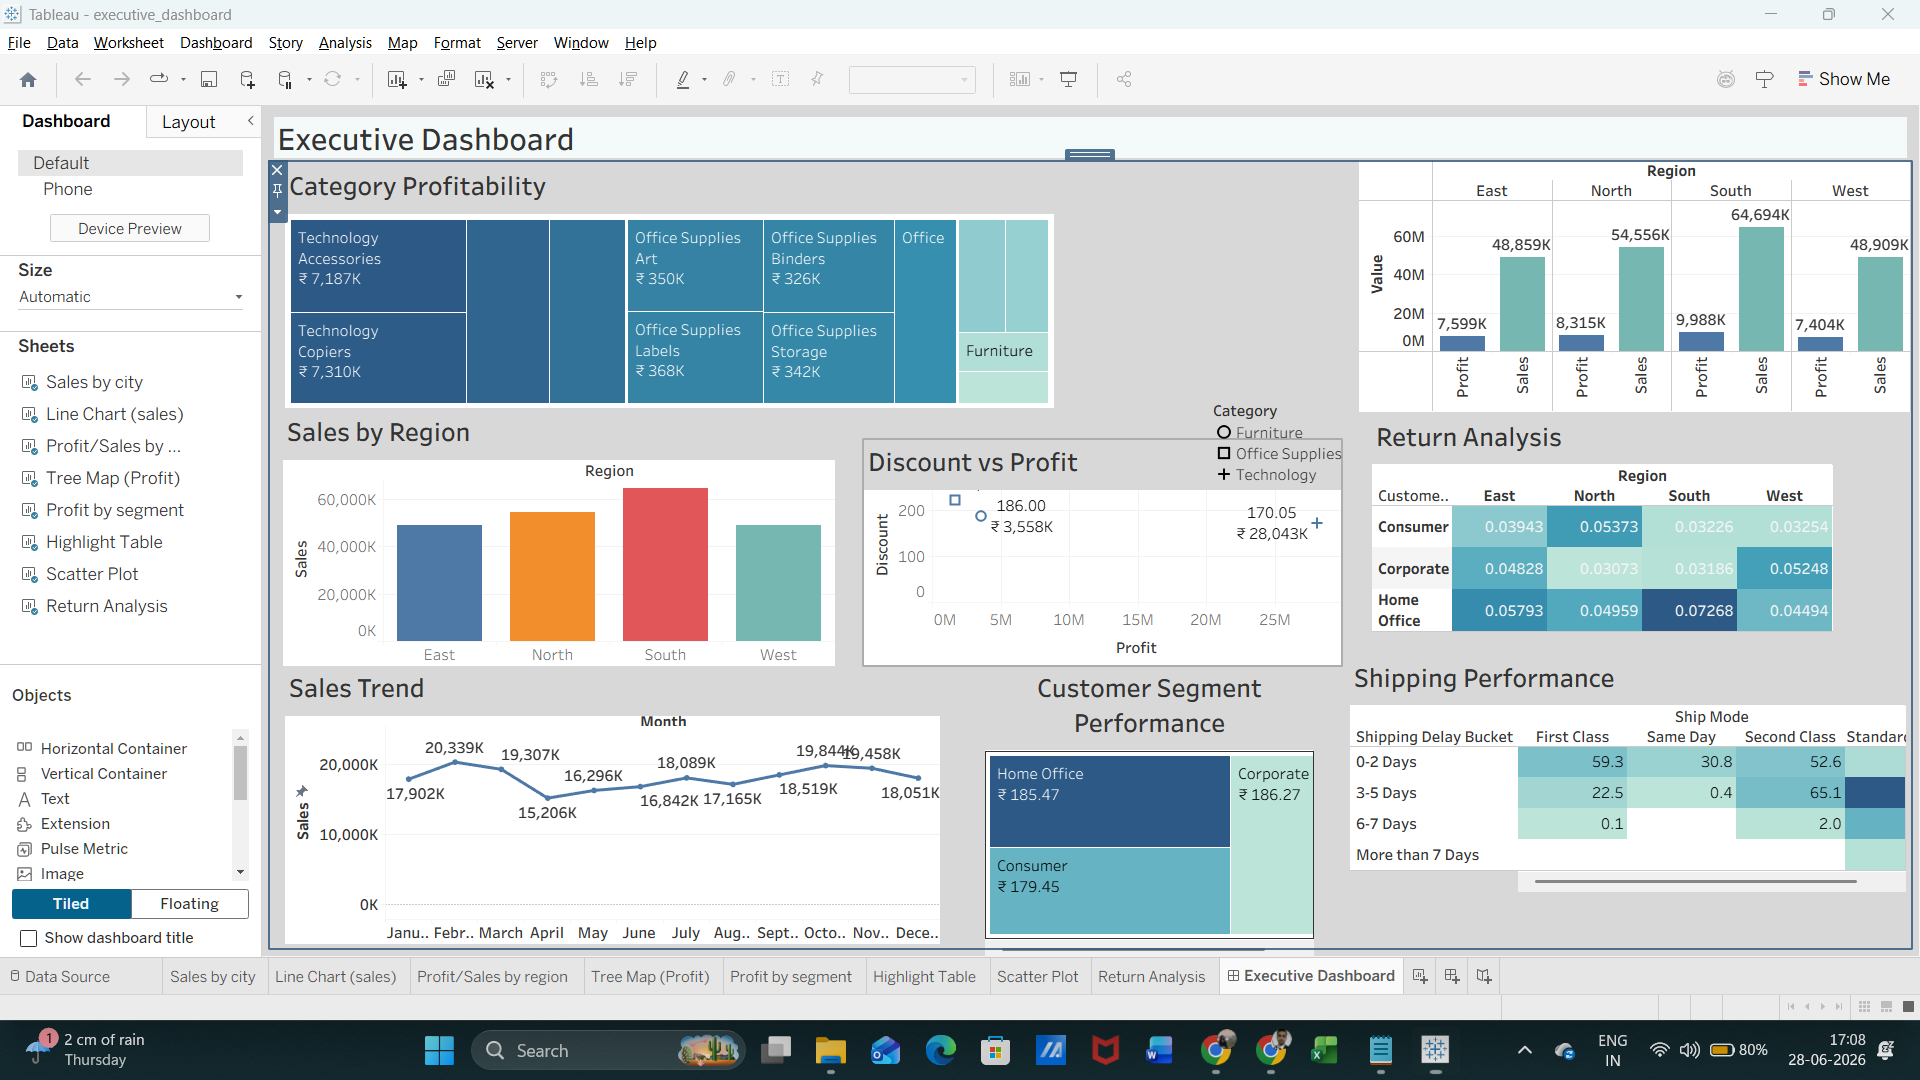

The page's visual inventory and layout, read from the dashboard file:
{"tool":"tableau","page":{"name":"Executive Dashboard","canvas":[1000,1000],"units":"permille","ordinal":0},"visuals":[{"type":"title","box":[4.8,9.4,990.3,57.6]},{"type":"worksheet","title":"Profit/Sales by region","mark":"Automatic","cols":["region"],"box":[662,64.6,333.1,296.1]},{"type":"worksheet","title":"Tree Map (Profit)","mark":"Automatic","box":[13.9,69.3,495.5,286.7]},{"type":"legend","title":"Scatter Plot","param":"[federated.0z5z3j31rj5l7211yzydh0zxtakk].[none:category:nk]","box":[573.9,346.7,85.1,99.9]},{"type":"worksheet","title":"Sales by city","mark":"Automatic","rows":["sales"],"cols":["region"],"box":[12.7,358.4,333.1,300.8]},{"type":"worksheet","title":"Return Analysis","mark":"Square","rows":["customer_segment"],"cols":["region"],"box":[669.9,364.3,311.4,266.8]},{"type":"worksheet","title":"Scatter Plot","mark":"Automatic","rows":["discount"],"cols":["profit"],"box":[363.3,393.7,287.9,264.4]},{"type":"worksheet","title":"Highlight Table","mark":"Square","rows":["Calculation_2171277562015750"],"cols":["ship_mode"],"box":[656.8,647.5,335.8,332.6]},{"type":"worksheet","title":"Line Chart (sales)","mark":"Line","rows":["sales"],"cols":["Month"],"box":[13.8,659.2,395.7,326.7]},{"type":"worksheet","title":"Profit by segment","mark":"Automatic","box":[436.3,659.2,198.6,345.5]}]}

Visuals, with their boxes on the dashboard's canvas, which has no fixed pixel size, in thousandths of its width and height (x1, y1, x2, y2). These are canvas units, not pixel positions in the 1920x1080 screenshot, which may show the page scaled, cropped or inside an application window:
title: [left=5, top=9, right=995, bottom=67]
"Profit/Sales by region" worksheet: [left=662, top=65, right=995, bottom=361]
"Tree Map (Profit)" worksheet: [left=14, top=69, right=509, bottom=356]
"Scatter Plot" legend: [left=574, top=347, right=659, bottom=447]
"Sales by city" worksheet: [left=13, top=358, right=346, bottom=659]
"Return Analysis" worksheet (Square marks): [left=670, top=364, right=981, bottom=631]
"Scatter Plot" worksheet: [left=363, top=394, right=651, bottom=658]
"Highlight Table" worksheet (Square marks): [left=657, top=648, right=993, bottom=980]
"Line Chart (sales)" worksheet (Line marks): [left=14, top=659, right=410, bottom=986]
"Profit by segment" worksheet: [left=436, top=659, right=635, bottom=1005]
